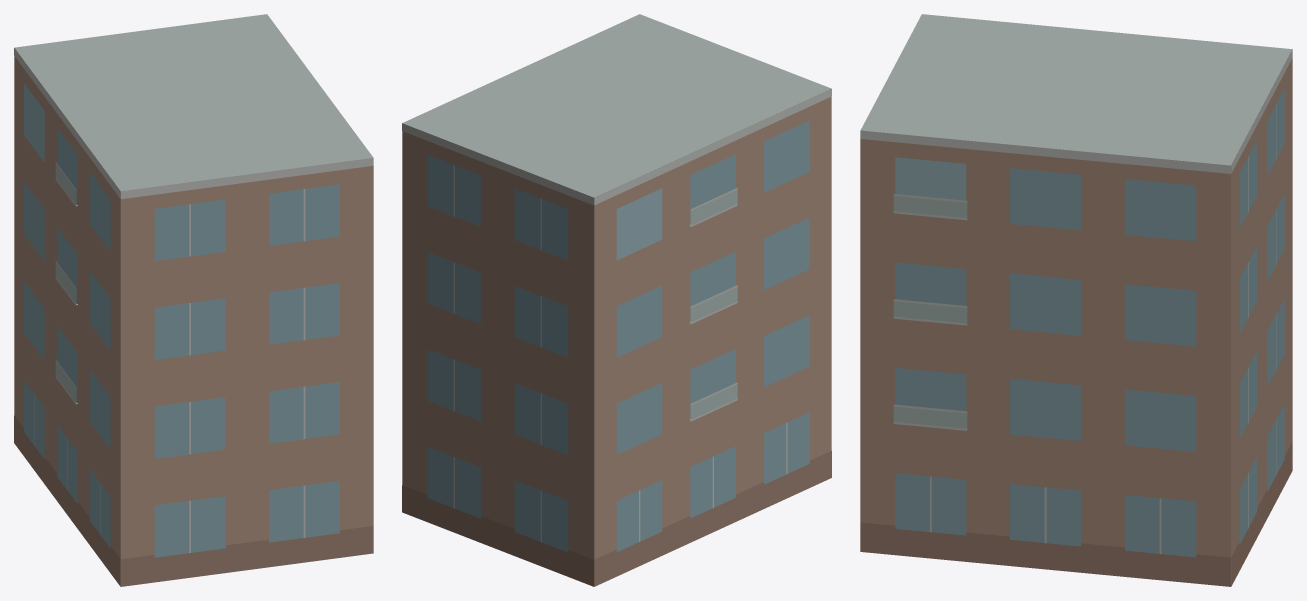
Rendered from residential-20f2d160-da9f-4a6c-b455-f8c9871983f4.glb.
3 renders of one model, left to right at view 1: azimuth 30°, elevation 25°; view 2: azimuth 150°, elevation 25°; view 3: azimuth 270°, elevation 25°, orthographic. The views are drawn at different scales.
Parts seen in each view (by area): view 1: residential-20f2d160-da9f-4a6c-b455-f8c9871983f4.tmp; view 2: residential-20f2d160-da9f-4a6c-b455-f8c9871983f4.tmp; view 3: residential-20f2d160-da9f-4a6c-b455-f8c9871983f4.tmp.
Part boxes in pixels (x1,y1,x2,y2): residential-20f2d160-da9f-4a6c-b455-f8c9871983f4.tmp: (14,14,373,586); residential-20f2d160-da9f-4a6c-b455-f8c9871983f4.tmp: (402,14,831,586); residential-20f2d160-da9f-4a6c-b455-f8c9871983f4.tmp: (860,14,1292,586).
Bounding box in the file's own units: 9.42 × 12.2 × 11.36.
